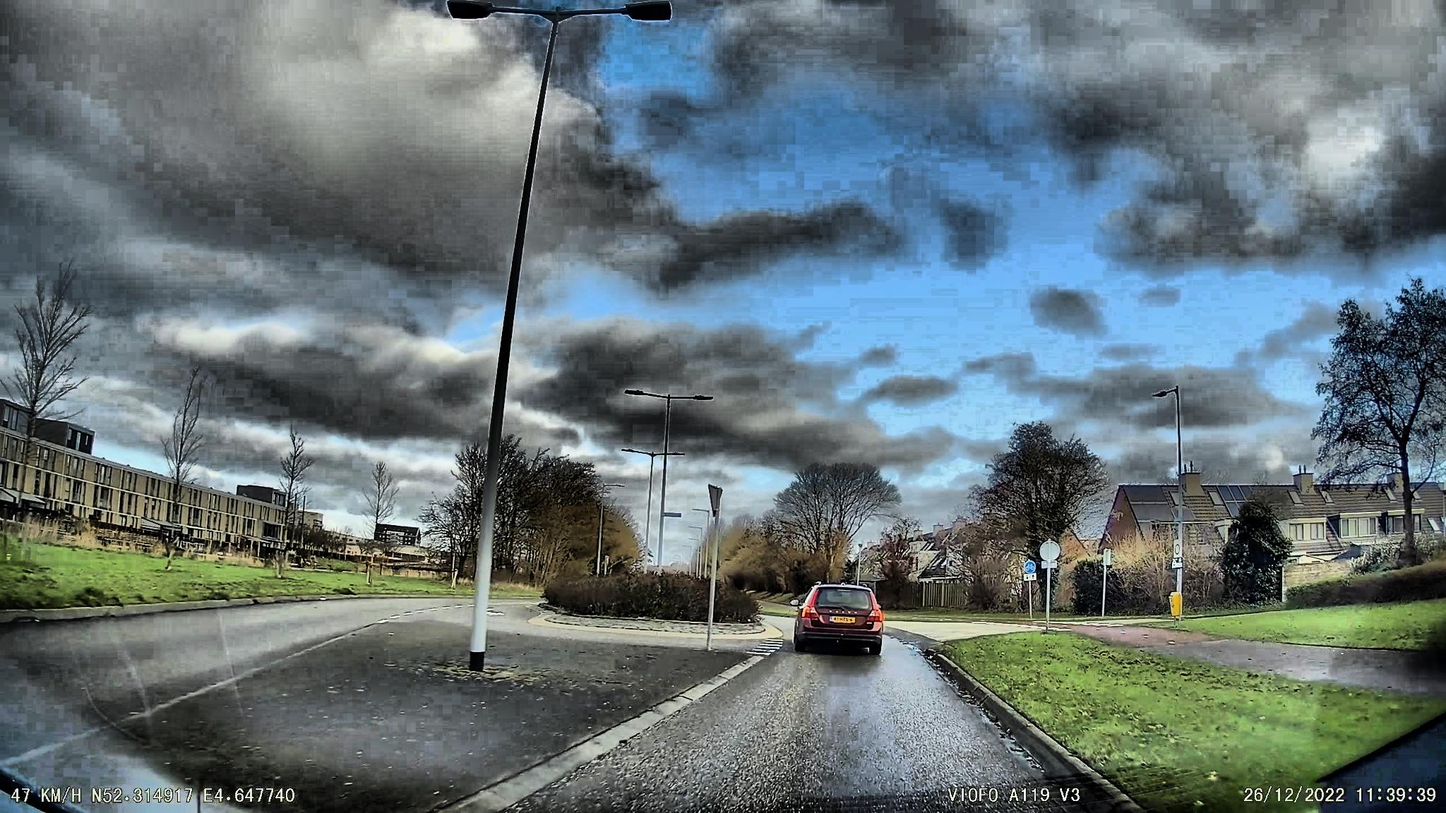Roads: (510, 634, 1140, 813)
